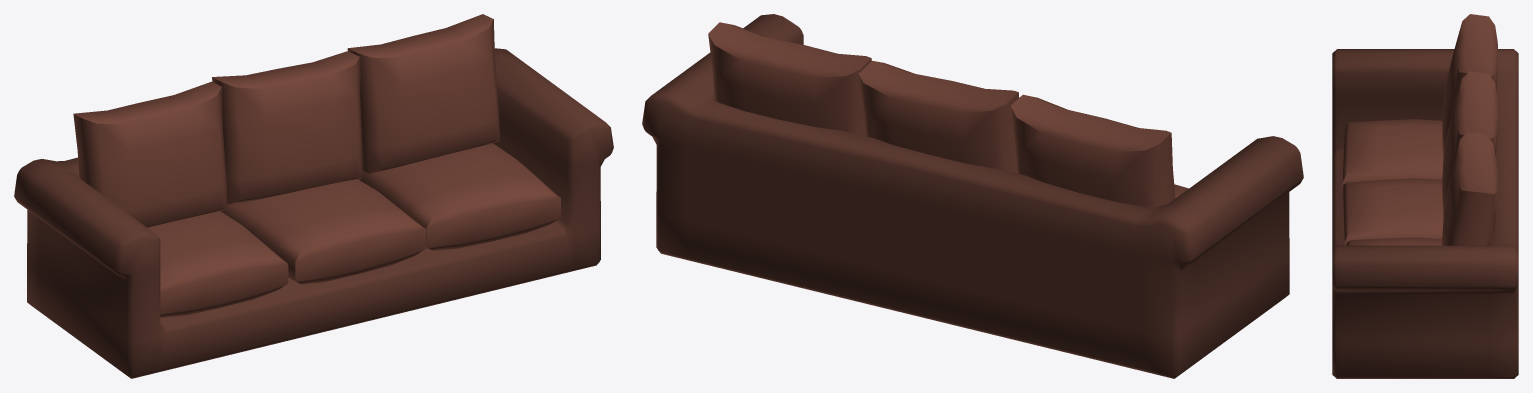
File: couch-large1.glb
3 views of the same model, side by side, from view 1: azimuth 30°, elevation 25°; view 2: azimuth 150°, elevation 25°; view 3: azimuth 270°, elevation 25° (orthographic). The views are drawn at different scales.
Visible parts, largest first — view 1: Couch_Large1; view 2: Couch_Large1; view 3: Couch_Large1.
Boxes of the visible parts, <box> form: Couch_Large1: <box>14,14,613,378</box>; Couch_Large1: <box>642,14,1303,378</box>; Couch_Large1: <box>1332,14,1518,378</box>.
Bounding box in the file's own units: 5.48 × 2.11 × 1.99.
